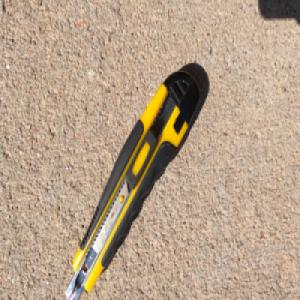Cutter: (63, 68, 200, 300)
